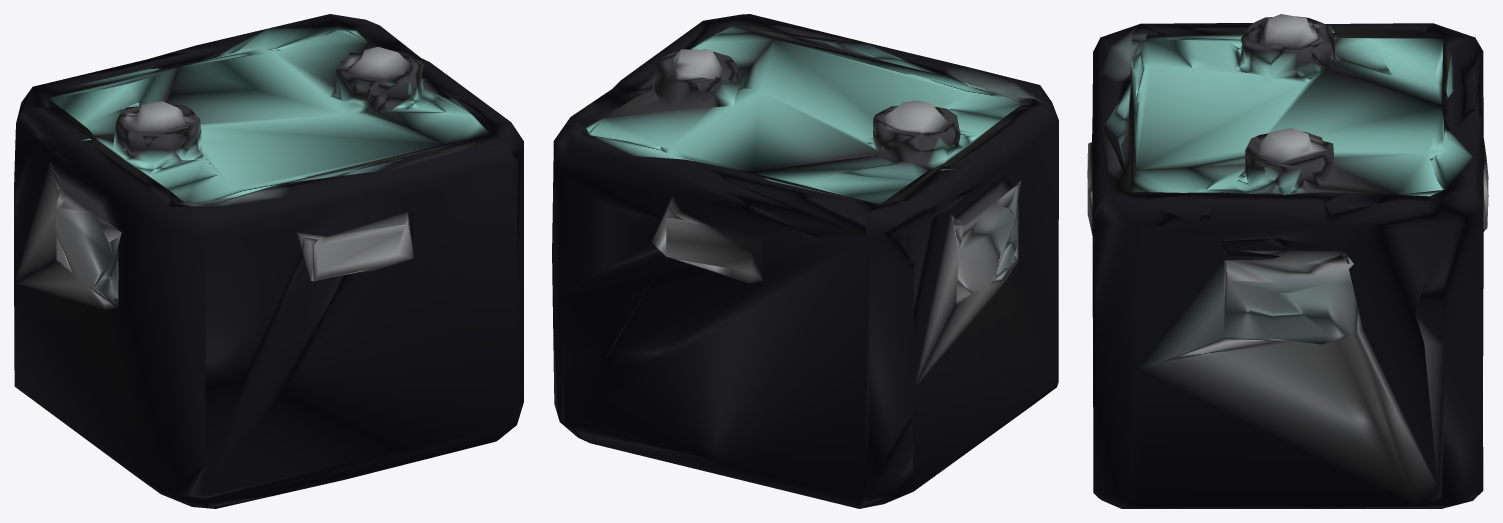
File: gen3d-battery-pack-lod1.glb
3 views of the same model, side by side, from view 1: azimuth 30°, elevation 25°; view 2: azimuth 150°, elevation 25°; view 3: azimuth 270°, elevation 25° (orthographic). The views are drawn at different scales.
Parts seen in each view (by area): view 1: part_0; view 2: part_0; view 3: part_0.
Boxes of the visible parts, x1,y1,x2,y2 form: part_0: [14, 14, 523, 508]; part_0: [552, 14, 1058, 508]; part_0: [1087, 14, 1488, 508].
Bounding box in the file's own units: 1.17 × 0.9994 × 1.04.
